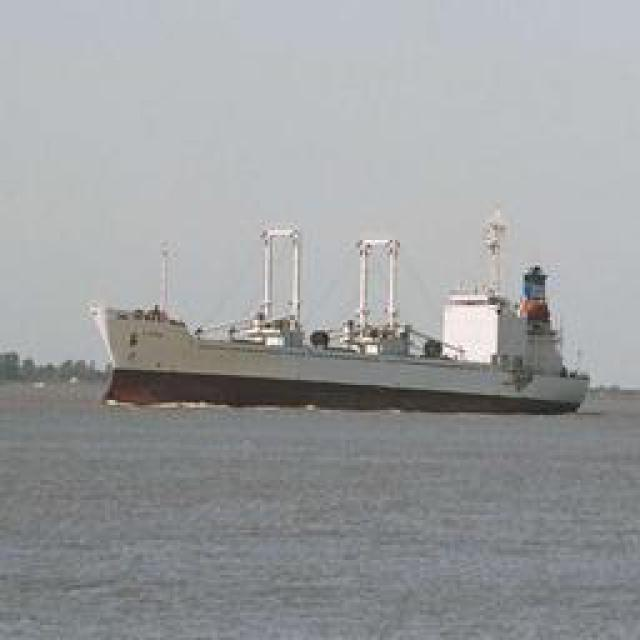Ship: (92, 220, 605, 420)
